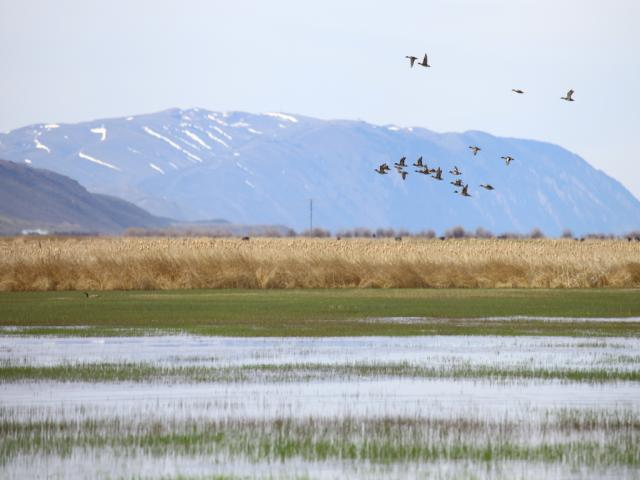Bird: (416, 51, 430, 67), (454, 181, 470, 194), (498, 152, 514, 164), (408, 159, 428, 168), (374, 161, 388, 173), (434, 165, 444, 181), (560, 90, 576, 100), (398, 153, 408, 167), (404, 54, 416, 65), (414, 167, 434, 173), (450, 163, 460, 174), (400, 167, 408, 179), (480, 182, 490, 191), (471, 145, 482, 153), (513, 85, 523, 92), (450, 178, 460, 183)
